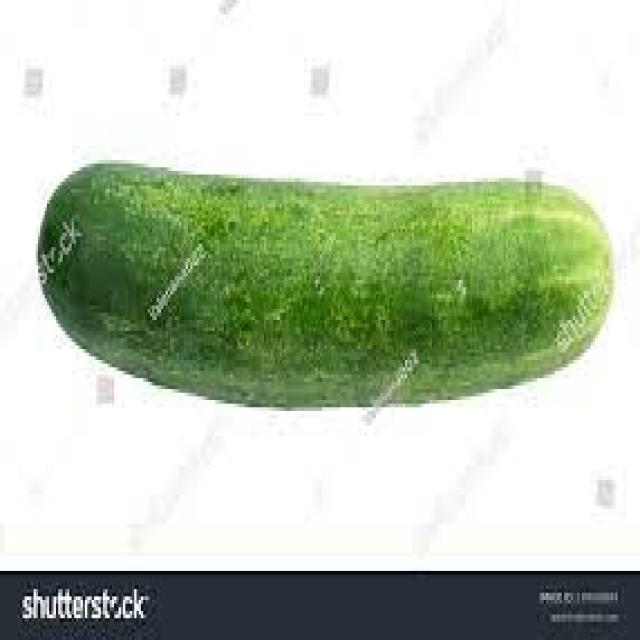cucumber: (36, 156, 613, 411)
